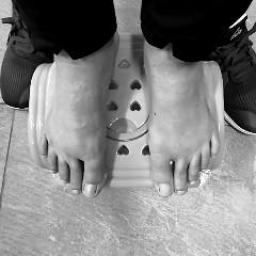Dorsal View -Both Feet-: (14, 8, 243, 216)
